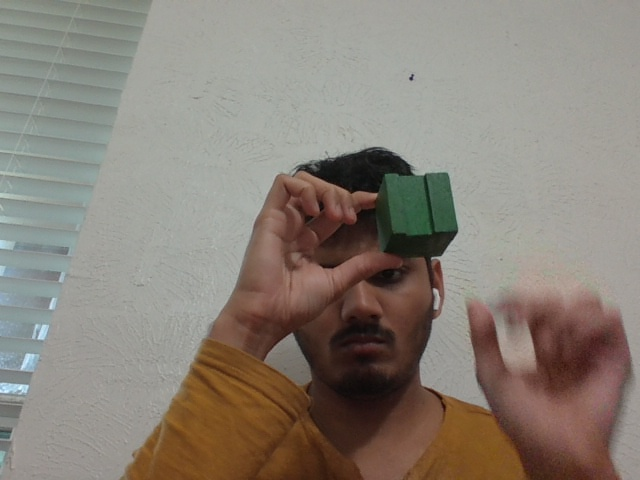GreenBlock: (374, 172, 458, 257)
